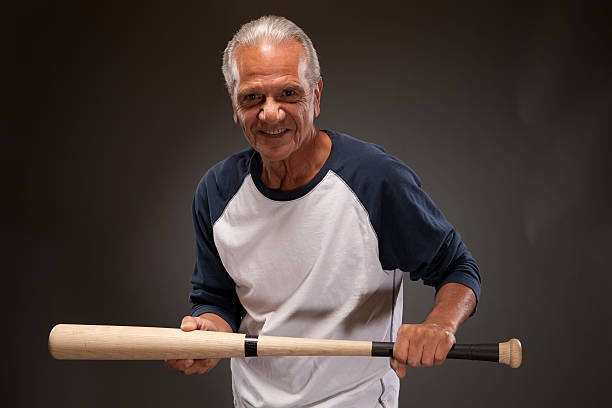bita: (43, 319, 523, 375)
